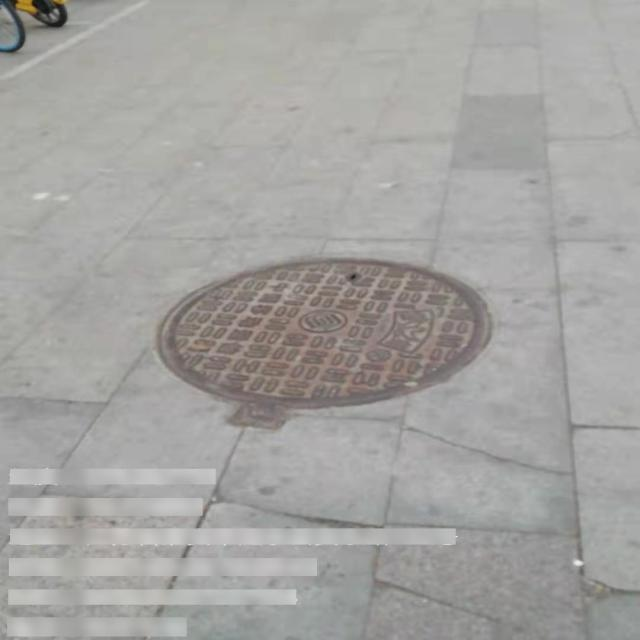Good: (156, 255, 493, 432)
